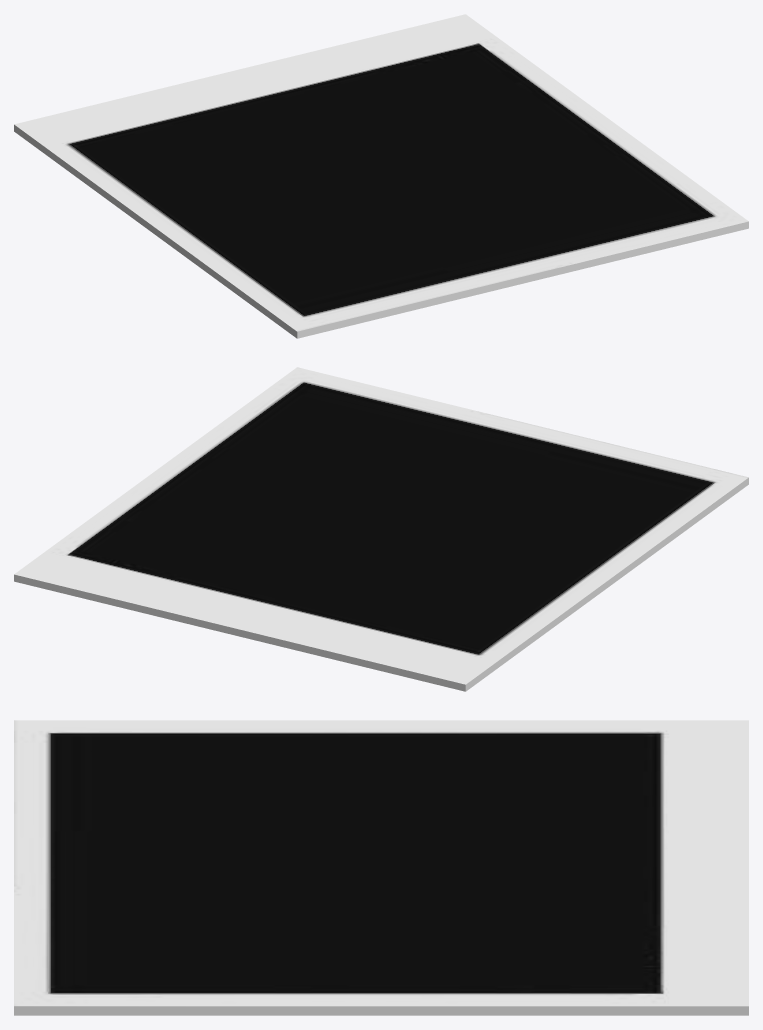
3 views of the same model, one above another, from view 1: azimuth 30°, elevation 25°; view 2: azimuth 150°, elevation 25°; view 3: azimuth 270°, elevation 25° (orthographic). The views are drawn at different scales.
Visible parts, largest first — view 1: defaultMaterial; view 2: defaultMaterial; view 3: defaultMaterial.
Boxes of the visible parts, <box> form: defaultMaterial: <box>14,14,748,338</box>; defaultMaterial: <box>14,367,748,691</box>; defaultMaterial: <box>14,720,748,1015</box>.
Size of the model in its own units: 1126 by 16.89 by 1222.
Materials: 1 (1 with a texture image).
